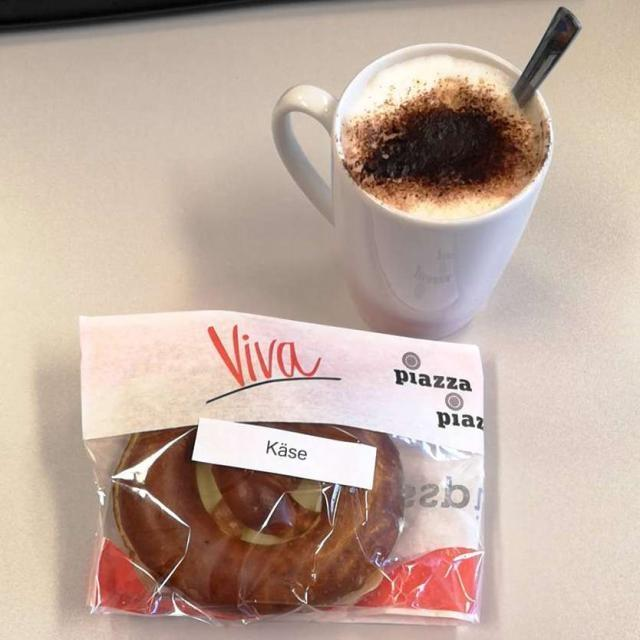cappuccino: (348, 72, 544, 212)
